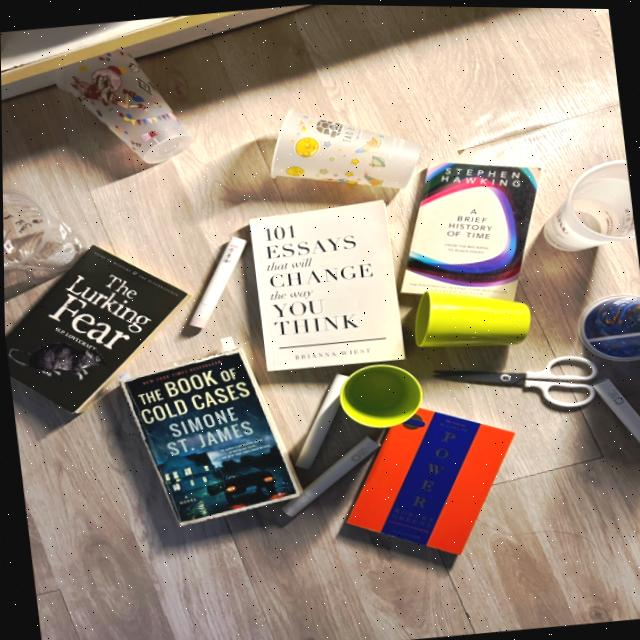Book: (118, 335, 299, 524), (4, 245, 188, 412), (249, 199, 403, 369), (344, 406, 512, 552), (400, 161, 538, 298)
HighLight Pen: (281, 436, 379, 515), (186, 237, 247, 328), (294, 372, 347, 467), (592, 377, 640, 445)
Plastic Cup: (56, 50, 191, 163), (270, 109, 419, 187), (542, 157, 634, 249), (2, 188, 85, 272)
Scissors: (432, 354, 595, 405)
WaterGlass: (413, 289, 529, 345), (338, 363, 421, 426)
